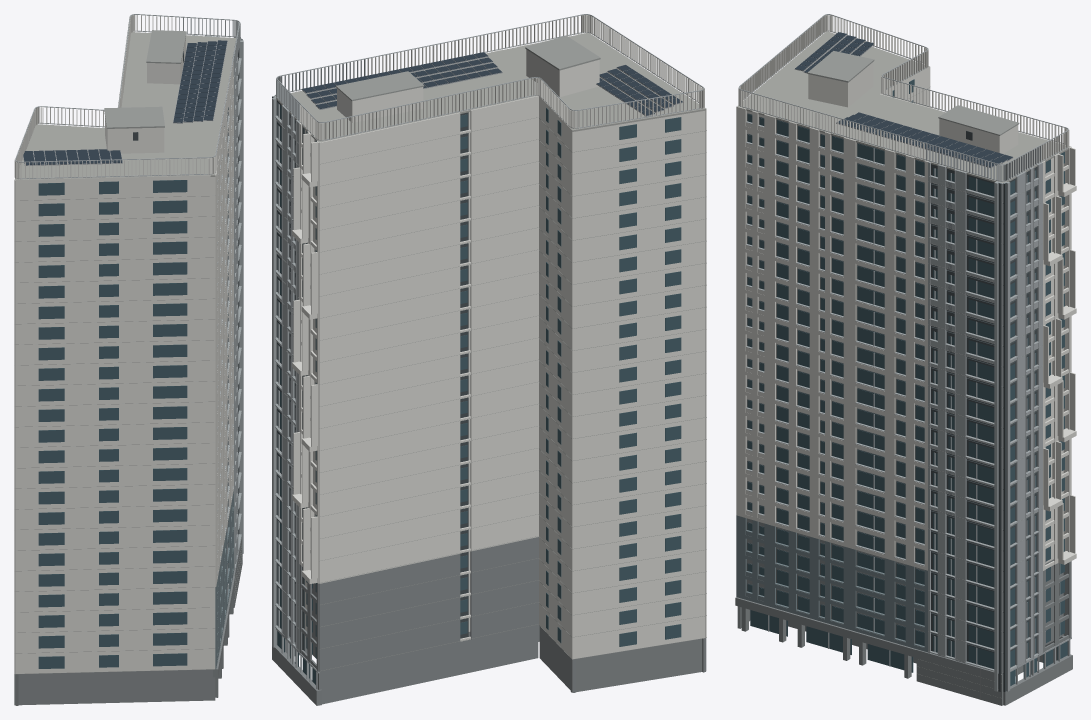
Rendered from bespoke-maple-xi-215.glb.
3 renders of one model, left to right at view 1: azimuth 30°, elevation 25°; view 2: azimuth 150°, elevation 25°; view 3: azimuth 270°, elevation 25°, orthographic. The views are drawn at different scales.
Visible parts, largest first — view 1: Maple215_inward_offset_inner_mass, Maple215_SE_white_window_glass, Maple215_individual_L_roof_slab, Maple215_SE_wide_living_sash, Maple215_recessed_ground_core, Maple215_SE_NE_metal_corner_panel_hairline, Maple215_SE_long_PV_dark_cells, Maple215_SE_individual_white_piers, Maple215_SE_long_PV_panel_frame, Maple215_SE_white_window_reveals; view 2: Maple215_inward_offset_inner_mass, Maple215_recessed_ground_core, Maple215_SE_white_window_glass, Maple215_SE_wide_living_sash, Maple215_SE_NE_metal_corner_panel_hairline, Maple215_individual_L_roof_slab, Maple215_SE_white_window_reveals, Maple215_SE_long_PV_dark_cells, Maple215_SE_long_PV_panel_frame; view 3: Maple215_inward_offset_inner_mass, Maple215_SE_white_window_glass, Maple215_SE_wide_living_sash, Maple215_SE_white_window_reveals, Maple215_recessed_ground_core, Maple215_SE_individual_white_piers, Maple215_individual_L_roof_slab, Maple215_SE_NE_metal_corner_panel_hairline, Maple215_SE_long_PV_dark_cells, Maple215_SE_long_PV_panel_frame.
Part boxes in pixels (left/top/right/bottom): Maple215_inward_offset_inner_mass: left=14, top=15, right=233, bottom=673; Maple215_SE_white_window_glass: left=38, top=107, right=228, bottom=668; Maple215_individual_L_roof_slab: left=14, top=32, right=236, bottom=179; Maple215_SE_wide_living_sash: left=15, top=14, right=243, bottom=594; Maple215_recessed_ground_core: left=14, top=501, right=242, bottom=705; Maple215_SE_NE_metal_corner_panel_hairline: left=15, top=30, right=242, bottom=674; Maple215_SE_long_PV_dark_cells: left=23, top=40, right=227, bottom=165; Maple215_SE_individual_white_piers: left=215, top=490, right=233, bottom=669; Maple215_SE_long_PV_panel_frame: left=23, top=41, right=227, bottom=165; Maple215_SE_white_window_reveals: left=133, top=37, right=242, bottom=568; Maple215_inward_offset_inner_mass: left=292, top=15, right=706, bottom=659; Maple215_recessed_ground_core: left=272, top=537, right=706, bottom=705; Maple215_SE_white_window_glass: left=277, top=103, right=681, bottom=684; Maple215_SE_wide_living_sash: left=272, top=14, right=704, bottom=689; Maple215_SE_NE_metal_corner_panel_hairline: left=276, top=35, right=706, bottom=671; Maple215_individual_L_roof_slab: left=275, top=33, right=706, bottom=142; Maple215_SE_white_window_reveals: left=272, top=95, right=468, bottom=650; Maple215_SE_long_PV_dark_cells: left=302, top=52, right=682, bottom=115; Maple215_SE_long_PV_panel_frame: left=301, top=54, right=683, bottom=116; Maple215_inward_offset_inner_mass: left=736, top=15, right=1076, bottom=570; Maple215_SE_white_window_glass: left=747, top=79, right=1067, bottom=685; Maple215_SE_wide_living_sash: left=738, top=14, right=1071, bottom=691; Maple215_SE_white_window_reveals: left=747, top=113, right=1037, bottom=691; Maple215_recessed_ground_core: left=735, top=518, right=1072, bottom=705; Maple215_SE_individual_white_piers: left=736, top=515, right=927, bottom=652; Maple215_individual_L_roof_slab: left=737, top=31, right=1070, bottom=182; Maple215_SE_NE_metal_corner_panel_hairline: left=807, top=51, right=1042, bottom=699; Maple215_SE_long_PV_dark_cells: left=795, top=32, right=1012, bottom=167; Maple215_SE_long_PV_panel_frame: left=794, top=34, right=1013, bottom=167.
Bounding box in the file's own units: 48.27 × 80.5 × 45.39.
